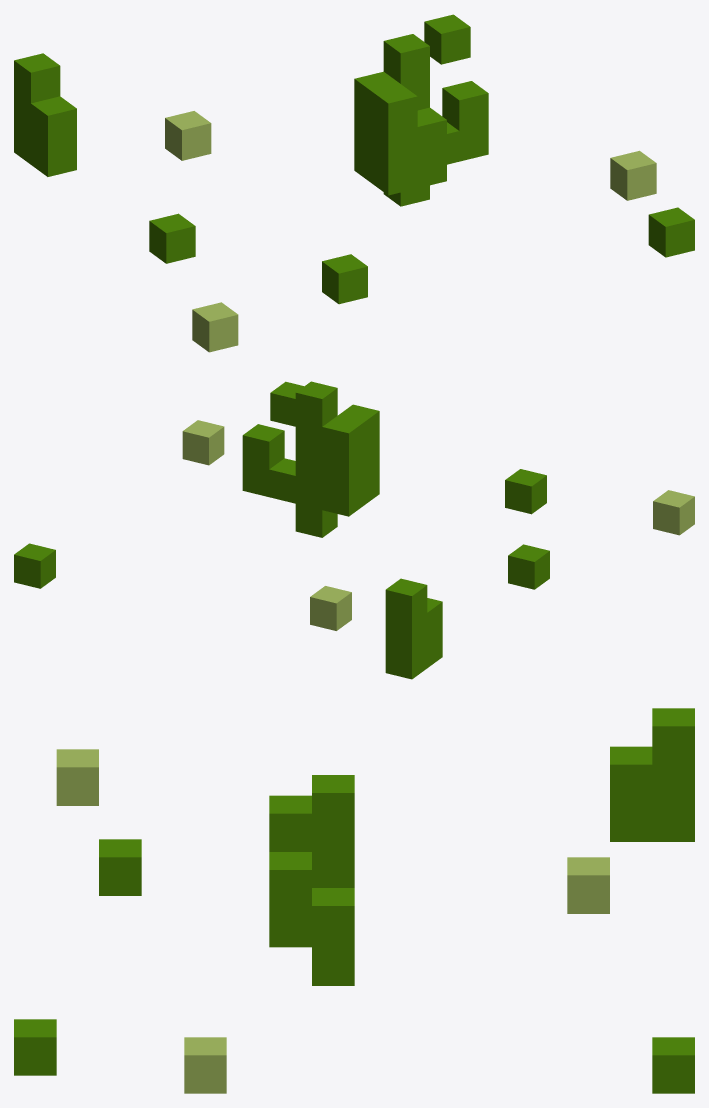
File: GroundObject_001.obj
3 renders of one model, top to bottom at view 1: azimuth 30°, elevation 25°; view 2: azimuth 150°, elevation 25°; view 3: azimuth 270°, elevation 25°, orthographic. The views are drawn at different scales.
Size of the model in its own units: 1.7 by 0.5 by 1.6.
Materials: 1 (1 with a texture image).
